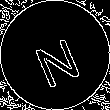N_NW: (27, 24, 83, 86)
